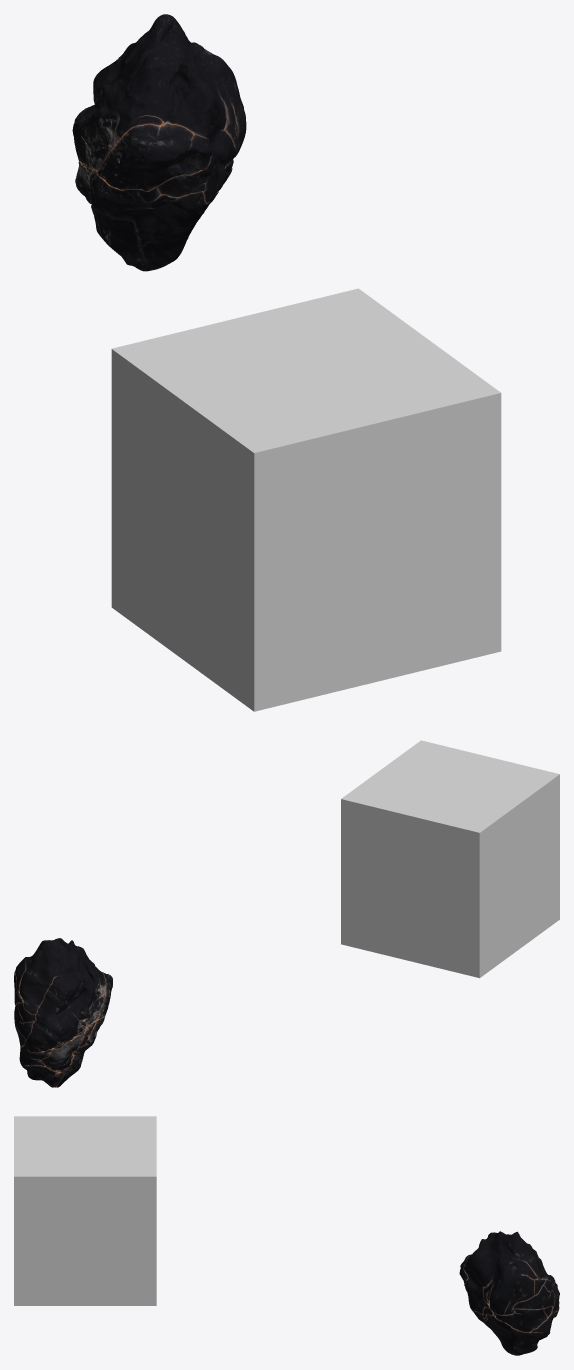
Rendered from onyx-rock.glb.
The picture shows the model from 3 angles, top to bottom: view 1: azimuth 30°, elevation 25°; view 2: azimuth 150°, elevation 25°; view 3: azimuth 270°, elevation 25°; orthographic projection. The views are drawn at different scales.
Visible parts, largest first — view 1: Cube, Onyx_web; view 2: Cube, Onyx_web; view 3: Cube, Onyx_web.
Boxes of the visible parts, x1,y1,x2,y2 form: Cube: (111,288,501,711); Onyx_web: (72,14,246,271); Cube: (341,740,559,978); Onyx_web: (14,938,112,1087); Cube: (14,1116,156,1305); Onyx_web: (459,1231,559,1355).
Bounding box in the file's own units: 3.85 × 2.2 × 7.65.
Materials: 2 (1 with a texture image).
